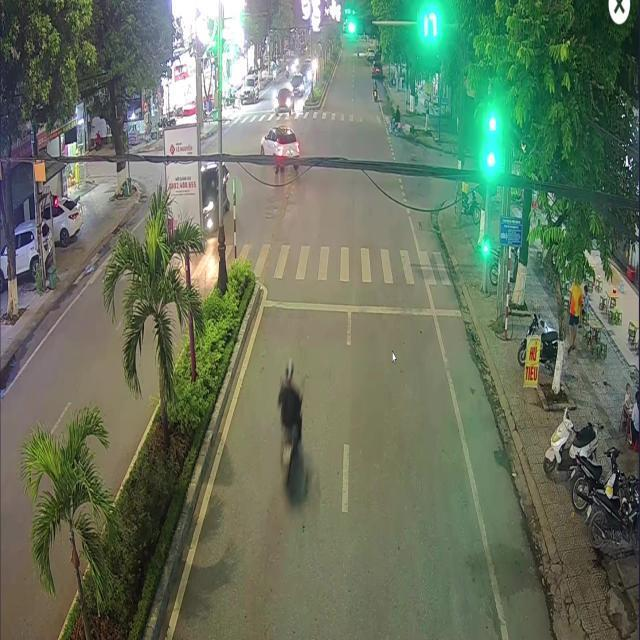car: (260, 126, 299, 172)
green_light: (346, 17, 370, 33), (486, 133, 495, 166), (483, 233, 487, 252)
motobike: (277, 359, 302, 482)
stop_line: (263, 299, 461, 315)
